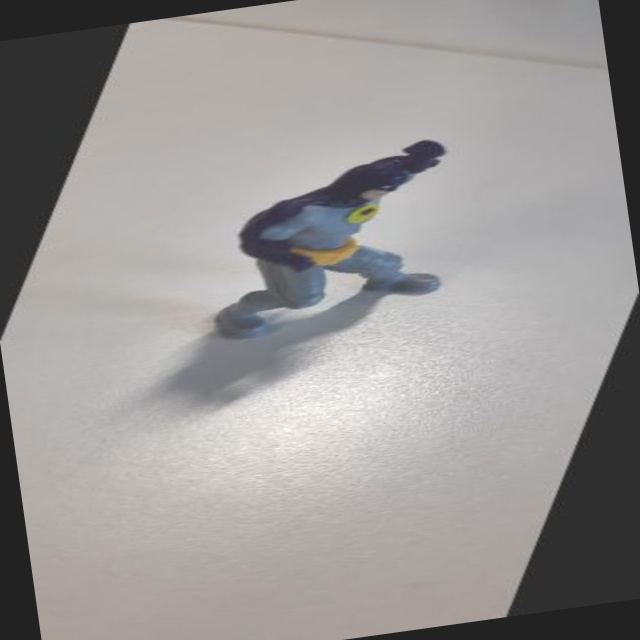Batman: (144, 93, 535, 374)
